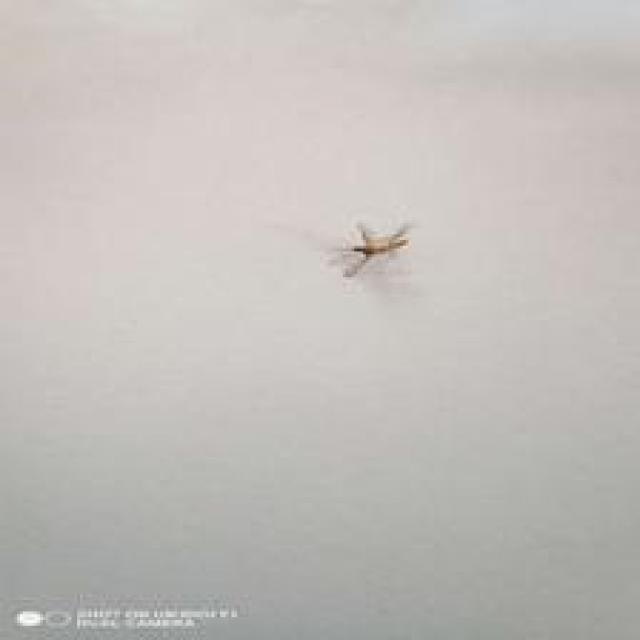Culex: (348, 222, 412, 262)
